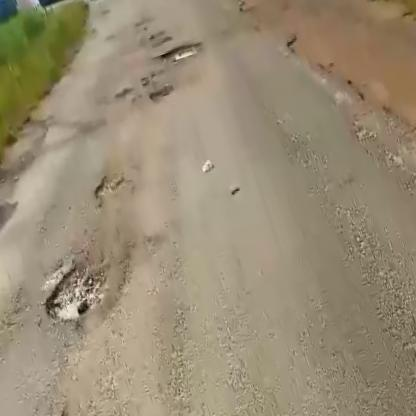pothole: (31, 248, 117, 337), (154, 36, 204, 67), (92, 170, 133, 206), (147, 80, 180, 107)
